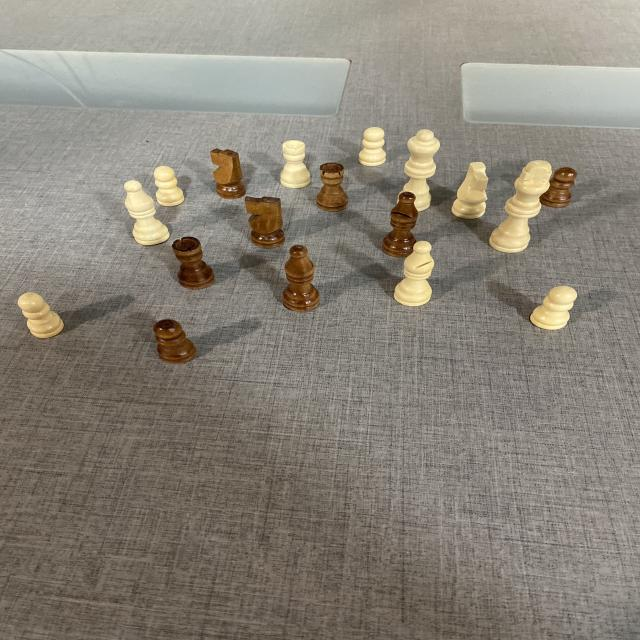Black-Bishop: (276, 244, 325, 312), (383, 191, 419, 255)
Black-Knight: (240, 195, 288, 250), (210, 146, 243, 200)
Black-Pawn: (153, 320, 193, 362), (540, 165, 578, 205)
Black-Rook: (174, 237, 214, 289), (318, 162, 350, 212)
White-Bishop: (125, 180, 169, 245), (396, 242, 436, 306)
White-King: (489, 160, 551, 252)
White-Knight: (452, 158, 490, 218)
White-Pawn: (530, 284, 578, 331), (18, 291, 65, 339), (154, 165, 183, 207), (358, 127, 387, 167)
White-Queen: (397, 129, 440, 211)
White-Rook: (279, 138, 312, 190)
